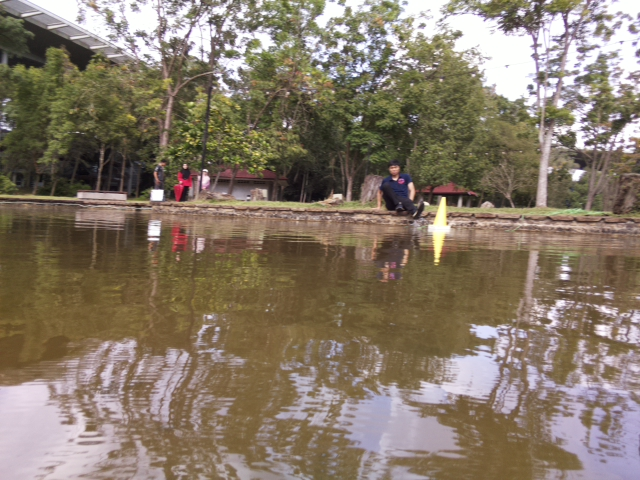checkpoint: (427, 194, 453, 233)
